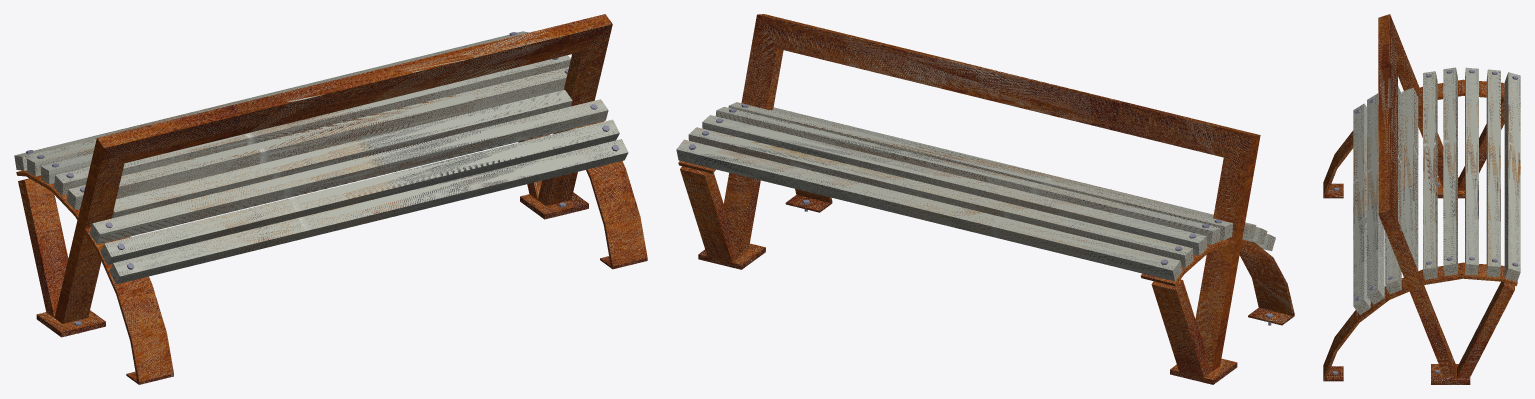
The picture shows the model from 3 angles, left to right: view 1: azimuth 30°, elevation 25°; view 2: azimuth 150°, elevation 25°; view 3: azimuth 270°, elevation 25°; orthographic projection. The views are drawn at different scales.
Visible parts, largest first — view 1: mesh2_mesh2-geometry, mesh8_mesh8-geometry, mesh10_mesh10-geometry, mesh9_mesh9-geometry, mesh7_mesh7-geometry, mesh6_mesh6-geometry, mesh3_mesh3-geometry, mesh4_mesh4-geometry, mesh5_mesh5-geometry, mesh1_mesh1-geometry; view 2: mesh2_mesh2-geometry, mesh3_mesh3-geometry, mesh5_mesh5-geometry, mesh4_mesh4-geometry, mesh6_mesh6-geometry, mesh7_mesh7-geometry, mesh8_mesh8-geometry; view 3: mesh2_mesh2-geometry, mesh3_mesh3-geometry, mesh7_mesh7-geometry, mesh6_mesh6-geometry, mesh4_mesh4-geometry, mesh9_mesh9-geometry, mesh10_mesh10-geometry, mesh5_mesh5-geometry, mesh8_mesh8-geometry, mesh1_mesh1-geometry.
Part boxes in pixels (x1=…): mesh2_mesh2-geometry: x1=16, y1=14, x2=647, y2=384; mesh8_mesh8-geometry: x1=89, y1=99, x2=608, y2=244; mesh10_mesh10-geometry: x1=109, y1=139, x2=628, y2=284; mesh9_mesh9-geometry: x1=100, y1=119, x2=619, y2=264; mesh7_mesh7-geometry: x1=67, y1=67, x2=568, y2=209; mesh6_mesh6-geometry: x1=54, y1=55, x2=570, y2=195; mesh3_mesh3-geometry: x1=14, y1=31, x2=529, y2=170; mesh4_mesh4-geometry: x1=26, y1=141, x2=95, y2=176; mesh5_mesh5-geometry: x1=40, y1=153, x2=93, y2=184; mesh1_mesh1-geometry: x1=26, y1=32, x2=618, y2=333; mesh2_mesh2-geometry: x1=678, y1=14, x2=1294, y2=384; mesh3_mesh3-geometry: x1=676, y1=139, x2=1182, y2=281; mesh5_mesh5-geometry: x1=702, y1=115, x2=1207, y2=255; mesh4_mesh4-geometry: x1=688, y1=127, x2=1193, y2=267; mesh6_mesh6-geometry: x1=715, y1=107, x2=1220, y2=244; mesh7_mesh7-geometry: x1=728, y1=102, x2=1232, y2=240; mesh8_mesh8-geometry: x1=773, y1=107, x2=1256, y2=239; mesh2_mesh2-geometry: x1=1323, y1=14, x2=1517, y2=384; mesh3_mesh3-geometry: x1=1504, y1=72, x2=1520, y2=281; mesh7_mesh7-geometry: x1=1423, y1=71, x2=1437, y2=279; mesh6_mesh6-geometry: x1=1443, y1=67, x2=1457, y2=275; mesh4_mesh4-geometry: x1=1486, y1=69, x2=1500, y2=277; mesh9_mesh9-geometry: x1=1367, y1=93, x2=1384, y2=304; mesh10_mesh10-geometry: x1=1353, y1=103, x2=1370, y2=314; mesh5_mesh5-geometry: x1=1465, y1=67, x2=1478, y2=275; mesh8_mesh8-geometry: x1=1385, y1=86, x2=1401, y2=294; mesh1_mesh1-geometry: x1=1332, y1=69, x2=1517, y2=374.
Bounding box in the file's own units: 0.8669 × 0.3499 × 0.3551.
